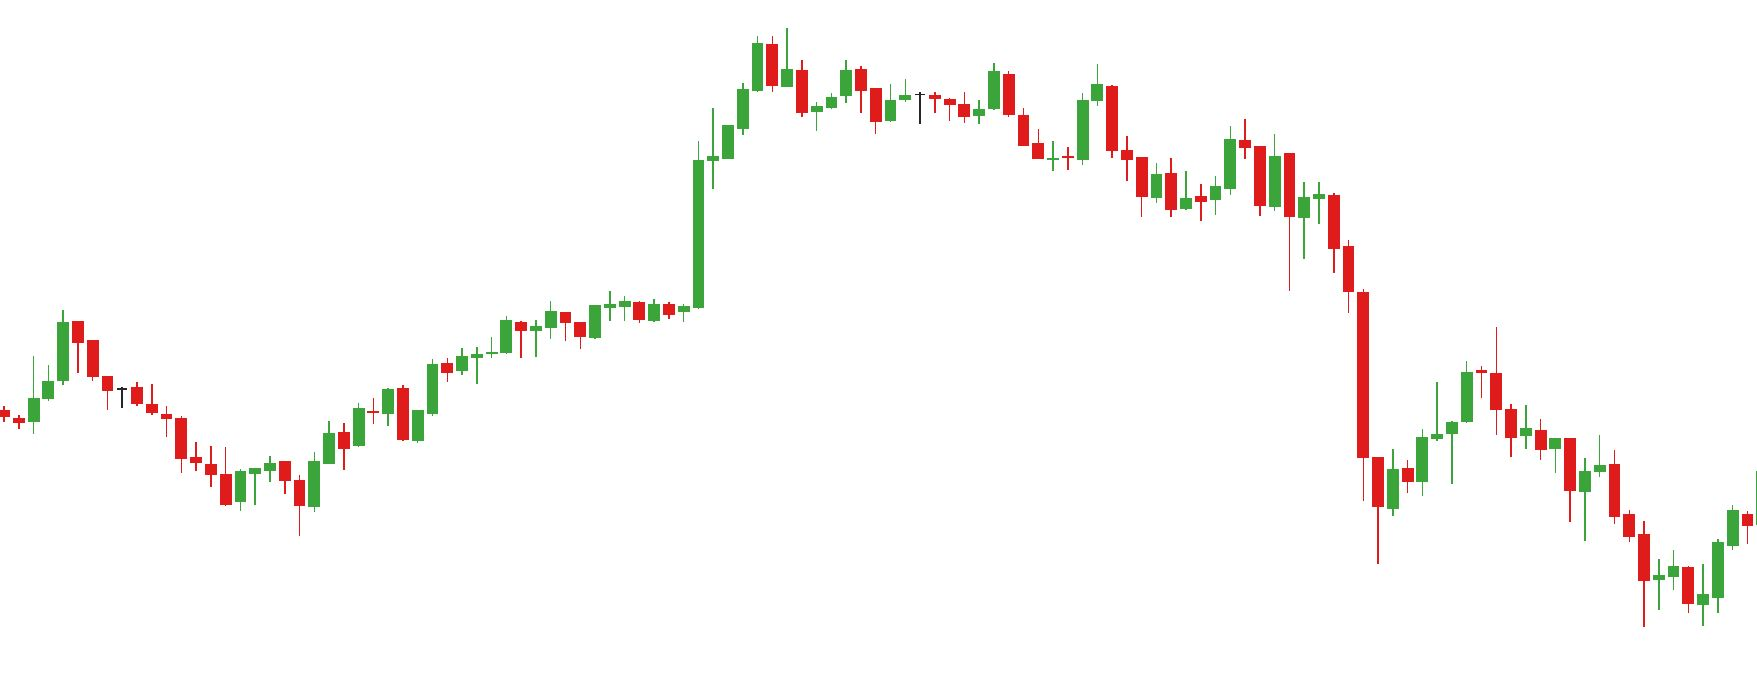sell: (1150, 119, 1267, 195)
